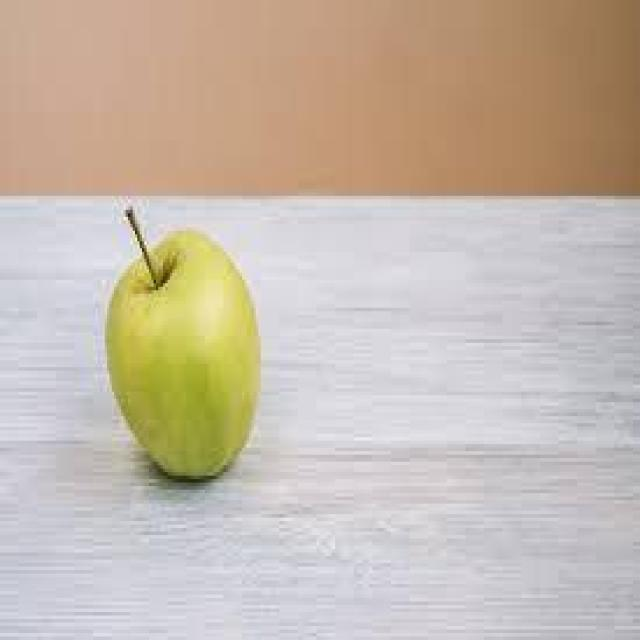maca: (102, 203, 261, 479)
